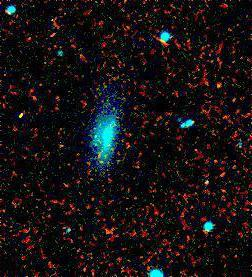star: (208, 66, 238, 96)
